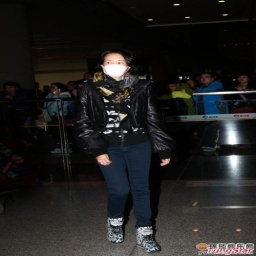correctlyWear: (100, 56, 130, 78)
noWear: (200, 74, 211, 83), (4, 84, 15, 93), (168, 83, 177, 92), (238, 75, 248, 83), (51, 84, 59, 93), (67, 82, 75, 91), (187, 80, 194, 88)
